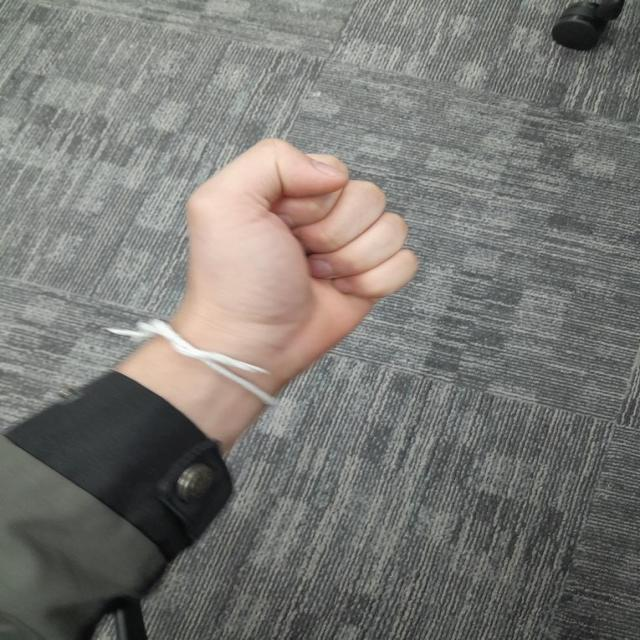fist: (183, 136, 420, 368)
